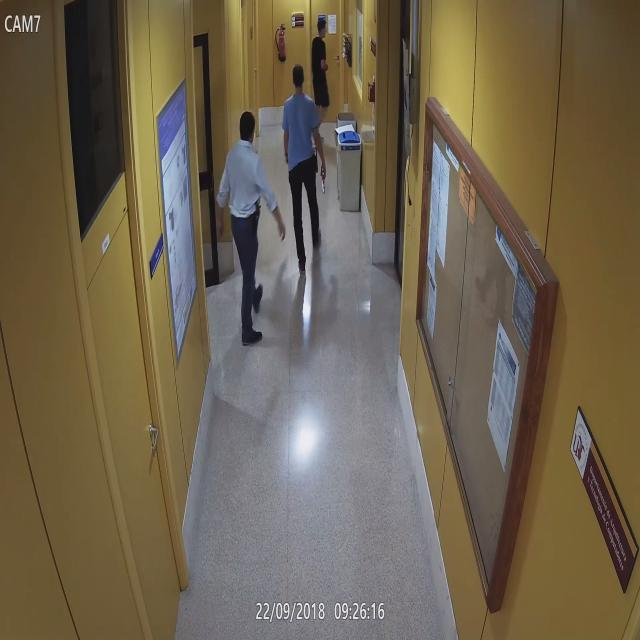Gun: (318, 162, 328, 194), (252, 201, 262, 232)
